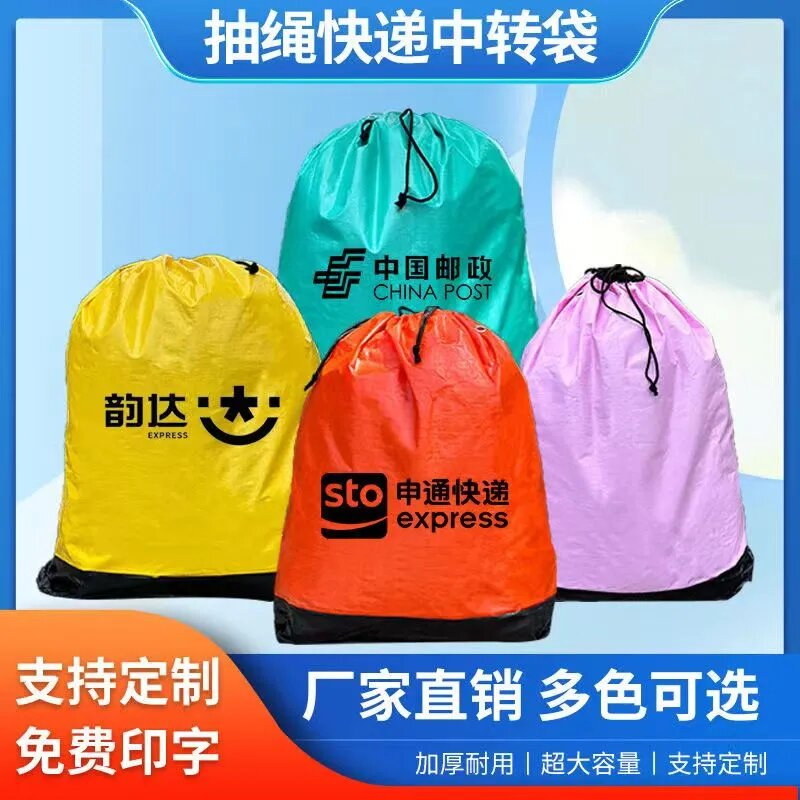塑料袋: (37, 255, 319, 599), (274, 309, 555, 644), (522, 265, 754, 599), (279, 109, 537, 358)
